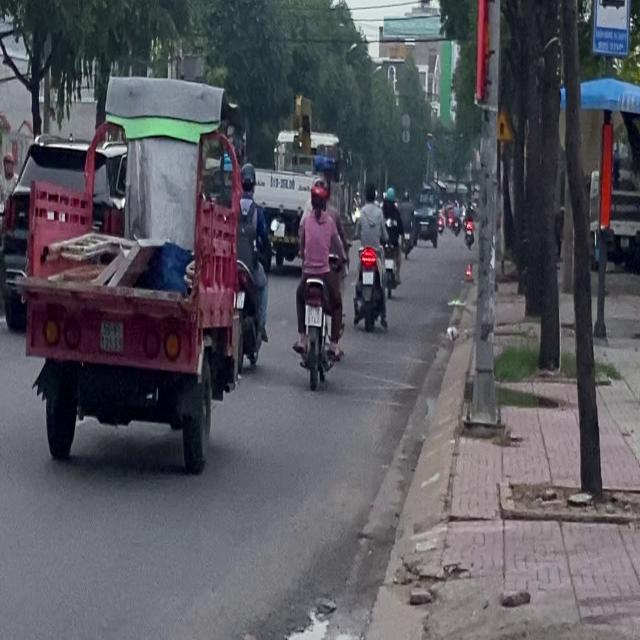helmet: (308, 174, 328, 210), (238, 161, 256, 196)
licenseplate: (291, 172, 346, 387), (229, 161, 270, 371)
nohelmet: (305, 306, 321, 325)
